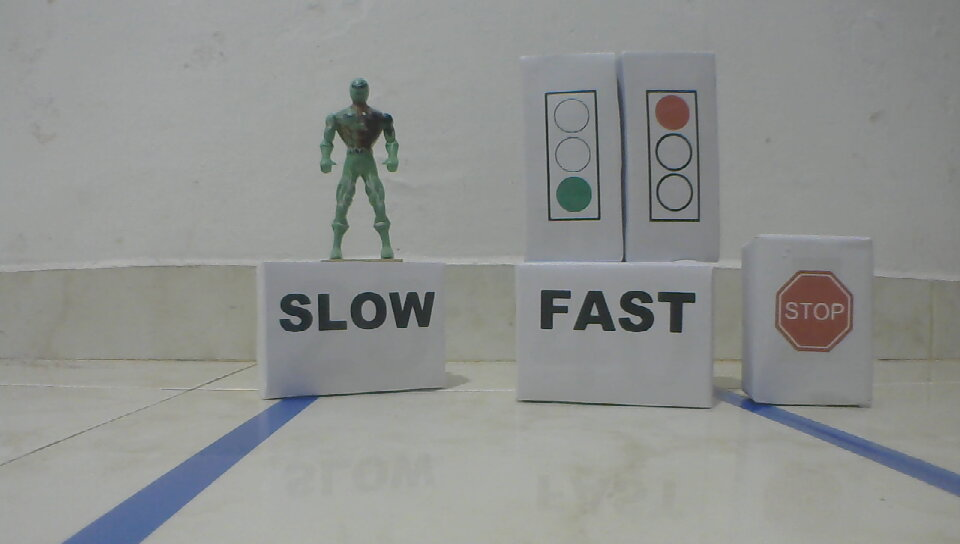Fast: (538, 287, 698, 334)
Green Traffic Light: (542, 88, 603, 224)
Person: (315, 76, 404, 264)
Red Traffic Light: (643, 88, 704, 226)
Slow: (275, 291, 438, 334)
Stop Sign: (773, 269, 854, 352)
